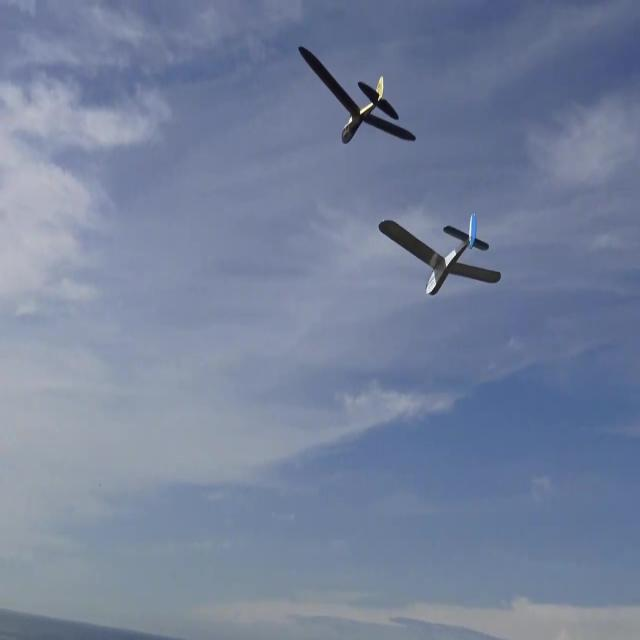iha: (330, 12, 384, 50), (411, 242, 469, 265)
